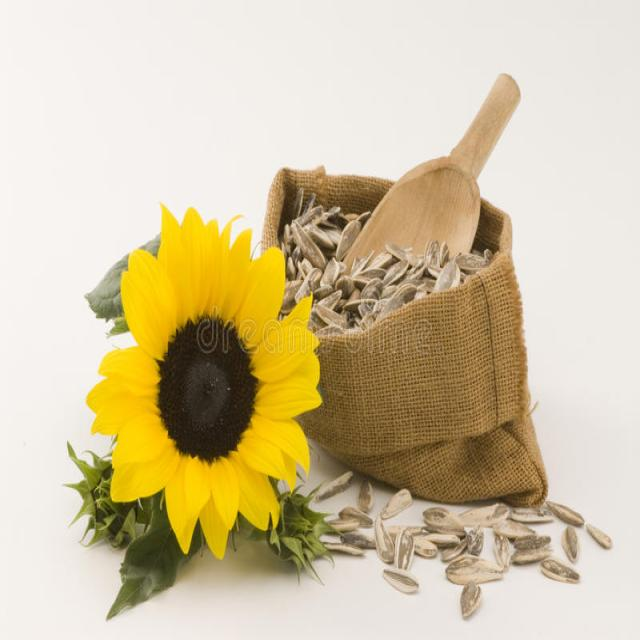sunflower: (78, 195, 328, 563)
